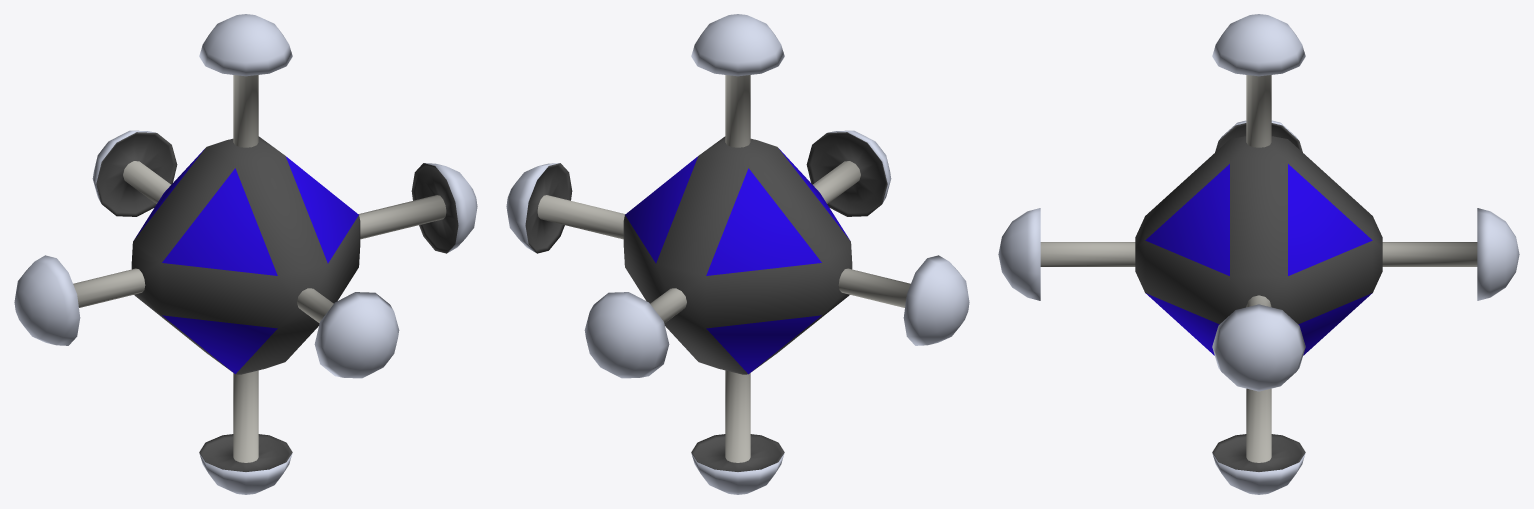
Rendered from radar.fbx.
3 renders of one model, left to right at view 1: azimuth 30°, elevation 25°; view 2: azimuth 150°, elevation 25°; view 3: azimuth 270°, elevation 25°, orthographic.
Visible parts, largest first — view 1: Cube, Sphere, Sphere_004, Sphere_003, Sphere_001, Sphere_005, Sphere_002; view 2: Cube, Sphere_002, Sphere_004, Sphere_003, Sphere_001, Sphere_005, Sphere; view 3: Cube, Sphere_005, Sphere_003, Sphere_001, Sphere_002, Sphere, Sphere_004.
Part boxes in pixels (x1,y1,x2,y2): Cube: [131, 136, 360, 374]; Sphere: [297, 288, 399, 378]; Sphere_004: [14, 255, 145, 345]; Sphere_003: [199, 14, 292, 147]; Sphere_001: [199, 370, 292, 494]; Sphere_005: [358, 163, 477, 253]; Sphere_002: [92, 130, 177, 216]; Cube: [623, 136, 852, 374]; Sphere_002: [584, 288, 686, 378]; Sphere_004: [838, 255, 969, 345]; Sphere_003: [691, 14, 784, 147]; Sphere_001: [691, 370, 784, 494]; Sphere_005: [506, 163, 625, 253]; Sphere: [806, 130, 891, 216]; Cube: [1135, 136, 1382, 355]; Sphere_005: [1212, 295, 1305, 391]; Sphere_003: [1212, 14, 1305, 147]; Sphere_001: [1212, 388, 1305, 494]; Sphere_002: [1382, 208, 1519, 300]; Sphere: [998, 208, 1135, 300]; Sphere_004: [1215, 120, 1302, 152].
Size of the model in its own units: 11.13 by 11.13 by 11.13.
